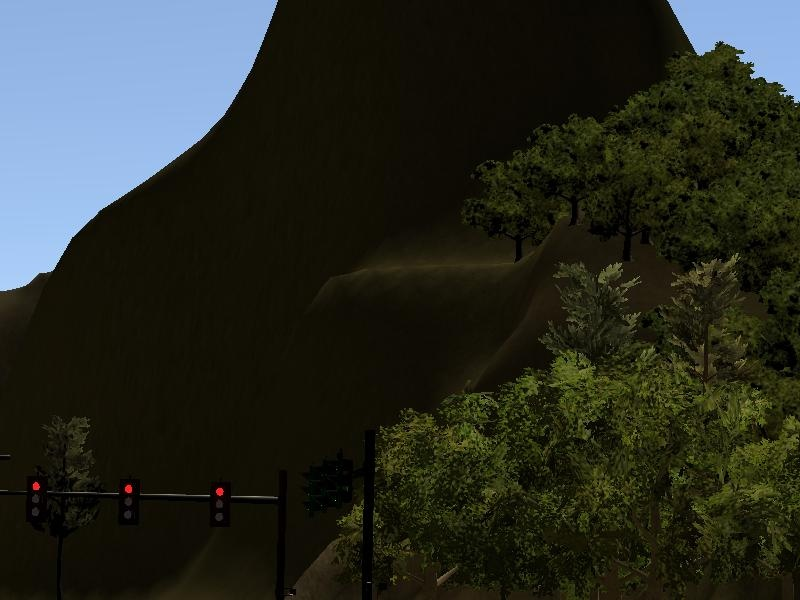RED: (26, 477, 47, 523), (119, 477, 140, 523), (209, 481, 230, 527)
